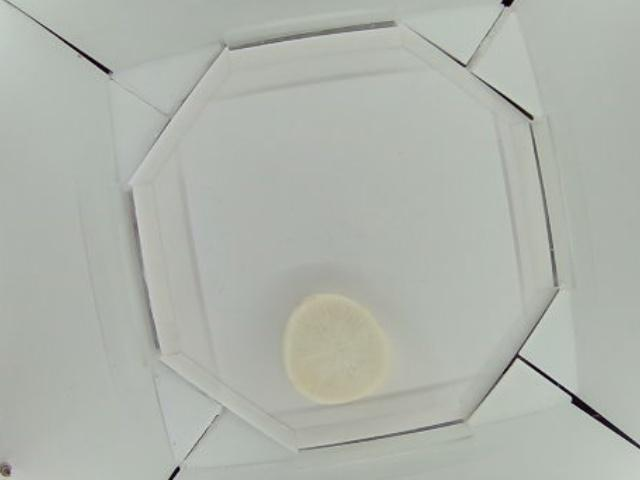Mooli: (283, 291, 390, 406)
